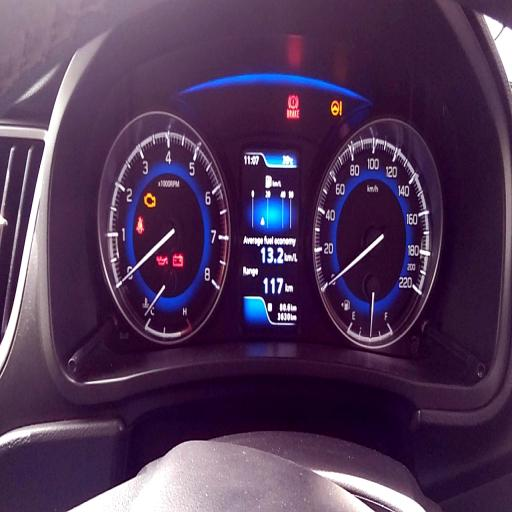belt: (136, 214, 144, 234)
brake_system_fault: (288, 94, 298, 110)
check_engine: (144, 192, 156, 209)
oil: (155, 254, 168, 266)
tachometer: (108, 130, 229, 338)
vehicle_charging: (172, 254, 183, 268)
